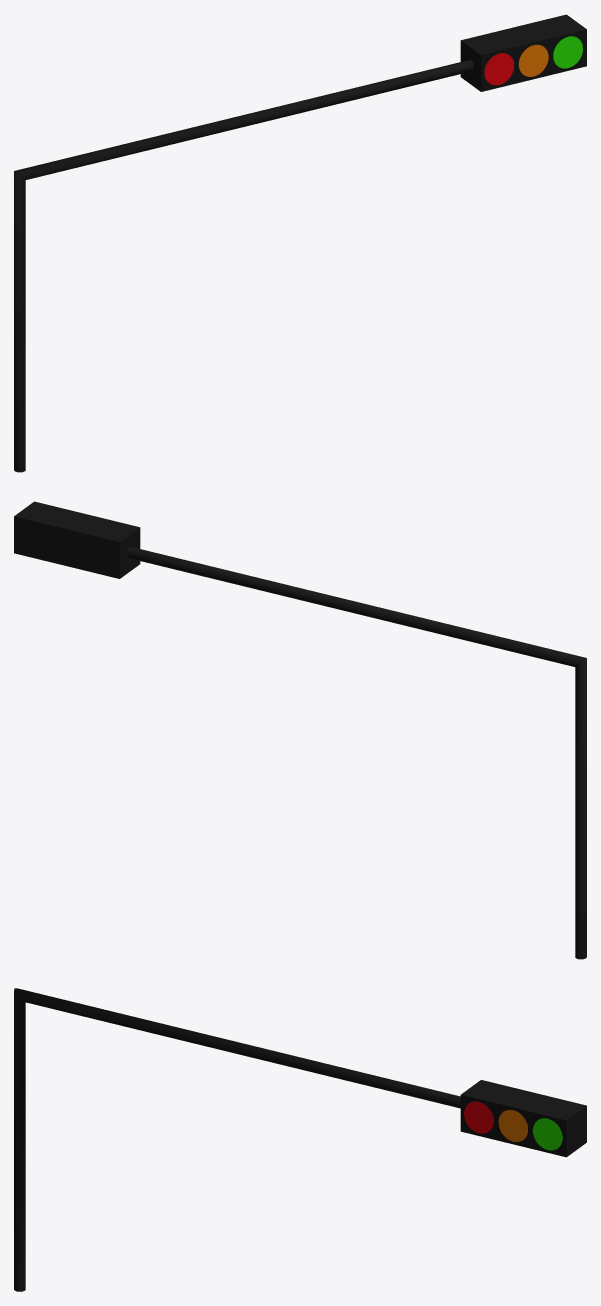
The model's file is swiatla_drogowe.FBX.
3 renders of one model, top to bottom at view 1: azimuth 30°, elevation 25°; view 2: azimuth 150°, elevation 25°; view 3: azimuth 330°, elevation 25°, orthographic.
Visible parts, largest first — view 1: Line001, Box001; view 2: Line001, Box001; view 3: Line001, Box001.
Boxes of the visible parts, x1=… form: Line001: x1=14, y1=60, x2=473, y2=472; Box001: x1=460, y1=14, x2=586, y2=91; Line001: x1=127, y1=547, x2=586, y2=959; Box001: x1=14, y1=501, x2=140, y2=578; Line001: x1=14, y1=988, x2=460, y2=1291; Box001: x1=460, y1=1080, x2=586, y2=1157.
Bounding box in the file's own units: 125 × 7.87 × 66.59.
Materials: 3 (1 with a texture image).
